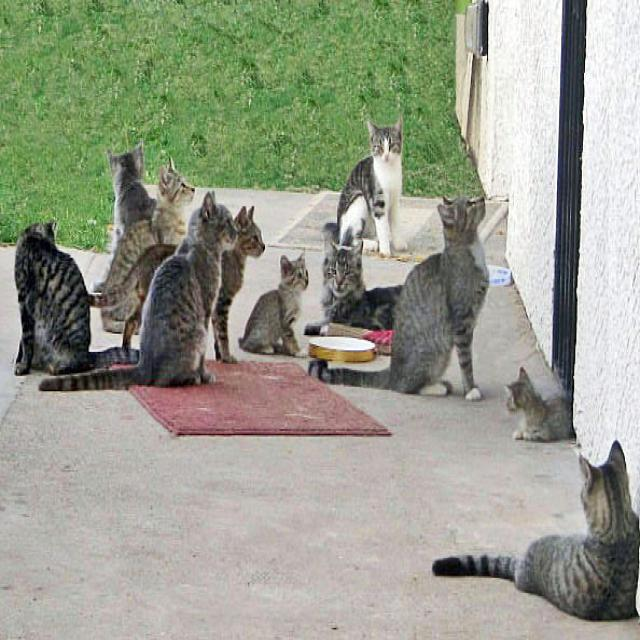cat: (39, 192, 236, 391), (432, 442, 640, 618), (309, 199, 489, 399), (15, 222, 139, 375), (104, 162, 194, 332), (338, 116, 404, 256), (92, 245, 176, 347), (212, 206, 265, 362), (324, 224, 401, 328), (239, 253, 309, 355), (506, 354, 574, 441), (109, 146, 156, 254)
